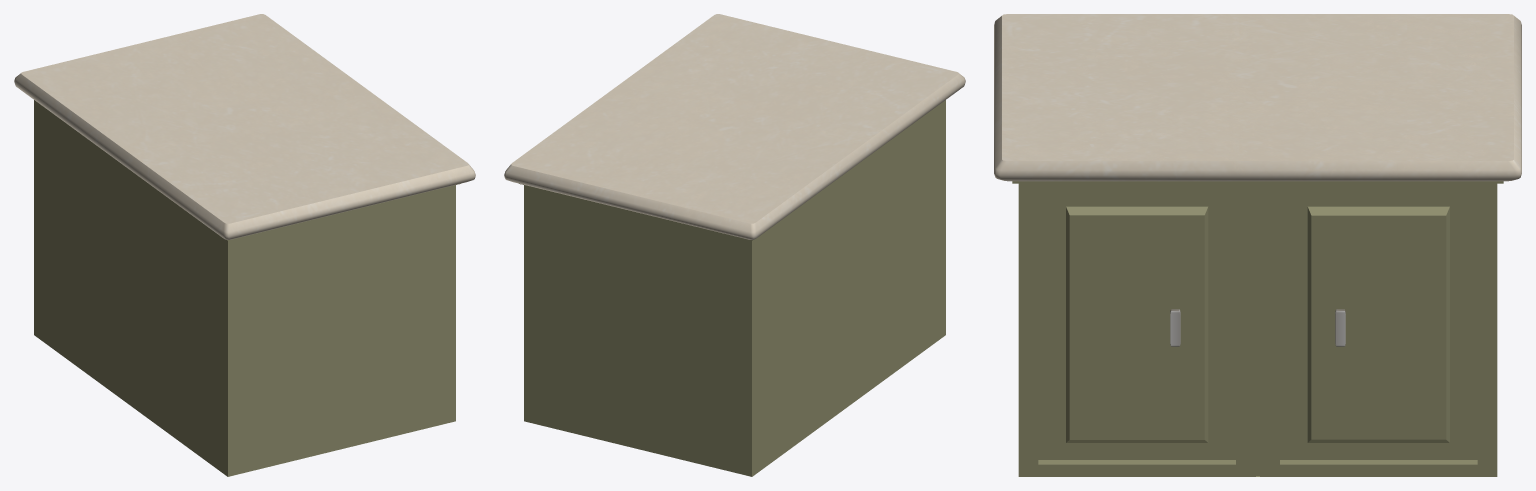
Rendered from kitchen countertop.fbx.
The picture shows the model from 3 angles, left to right: view 1: azimuth 30°, elevation 25°; view 2: azimuth 150°, elevation 25°; view 3: azimuth 270°, elevation 25°; orthographic projection. The views are drawn at different scales.
Visible parts, largest first — view 1: kitchen countertop; view 2: kitchen countertop; view 3: kitchen countertop.
Boxes of the visible parts, x1=… form: kitchen countertop: x1=14, y1=14, x2=475, y2=476; kitchen countertop: x1=504, y1=14, x2=965, y2=476; kitchen countertop: x1=994, y1=14, x2=1521, y2=476.
Bounding box in the file's own units: 126 × 124 × 186.
2 materials, 2 textured.
